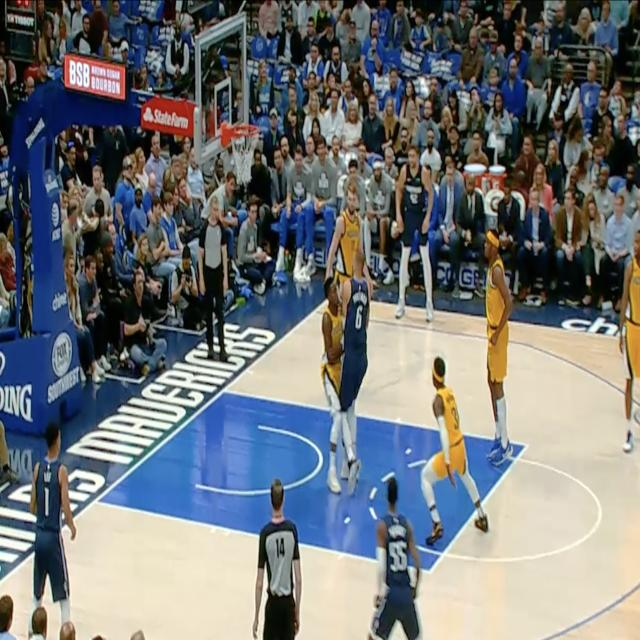Foul: (308, 258, 374, 499)
